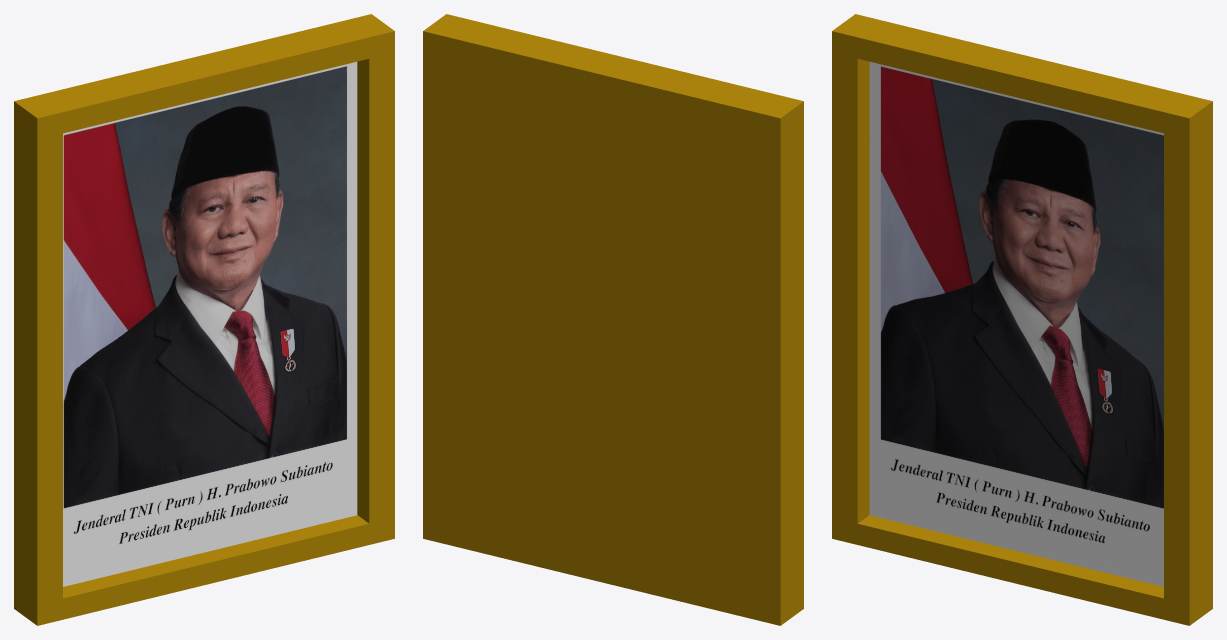
The model's file is Figura_Prabowo.fbx.
3 renders of one model, left to right at view 1: azimuth 30°, elevation 25°; view 2: azimuth 150°, elevation 25°; view 3: azimuth 330°, elevation 25°, orthographic.
Visible parts, largest first — view 1: Prabowo; view 2: Prabowo; view 3: Prabowo.
Part boxes in pixels (x1,y1,x2,y2): Prabowo: (14,14,394,625); Prabowo: (423,14,803,625); Prabowo: (832,14,1212,625).
Size of the model in its own units: 403 by 547 by 45.79.
Materials: 2 (1 with a texture image).
